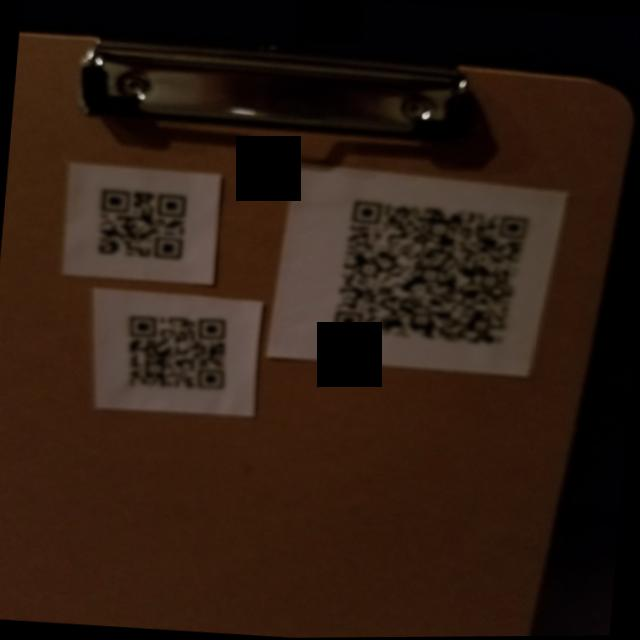QR_CODE: (302, 176, 549, 369), (99, 296, 252, 412), (73, 170, 214, 275)
